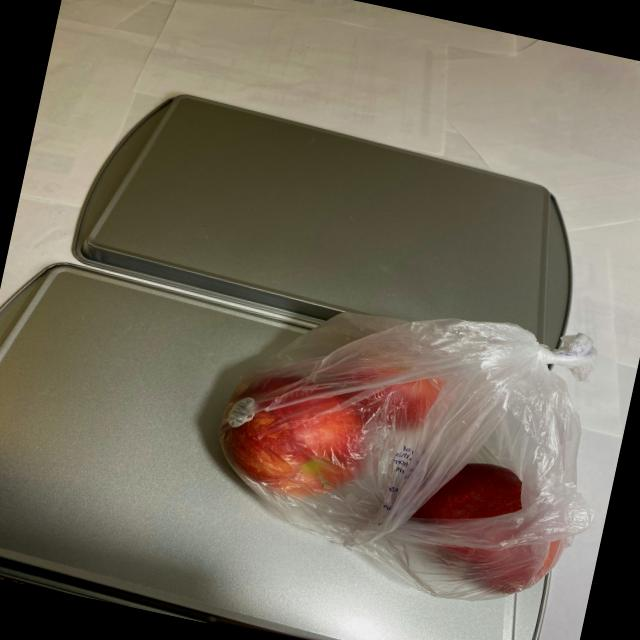apple: (195, 310, 600, 628)
